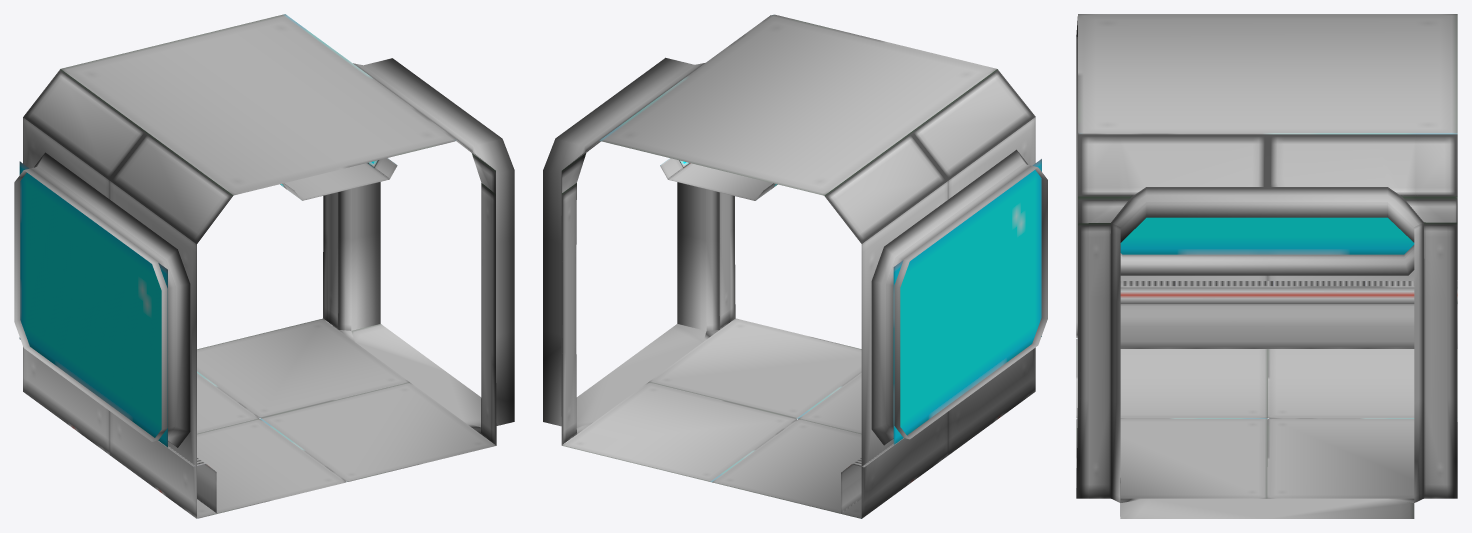
Rendered from corr_win_door_1.fbx.
3 views of the same model, side by side, from view 1: azimuth 30°, elevation 25°; view 2: azimuth 150°, elevation 25°; view 3: azimuth 270°, elevation 25° (orthographic). The views are drawn at different scales.
Visible parts, largest first — view 1: Cube_029; view 2: Cube_029; view 3: Cube_029.
Boxes of the visible parts, box(x1,y1,x2,y2) form: Cube_029: box(14, 14, 514, 518); Cube_029: box(543, 14, 1047, 518); Cube_029: box(1076, 14, 1457, 518).
Bounding box in the file's own units: 9.65 × 8 × 8.04.
